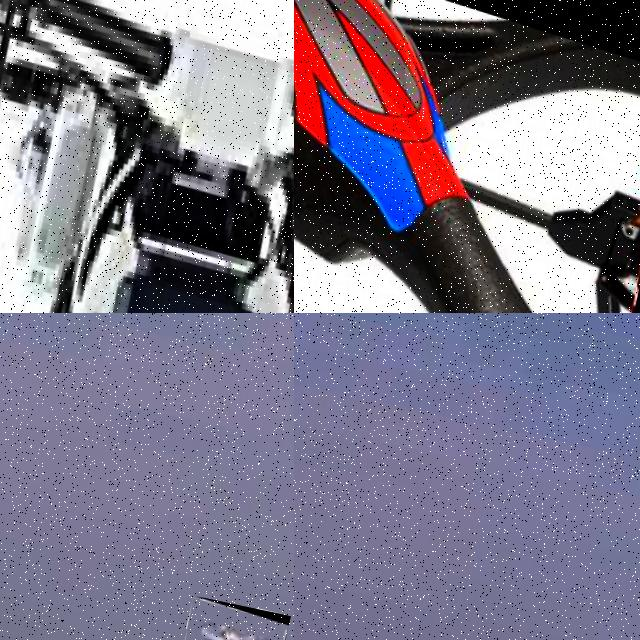drone: (294, 0, 640, 313), (0, 0, 294, 313), (174, 595, 290, 640)
